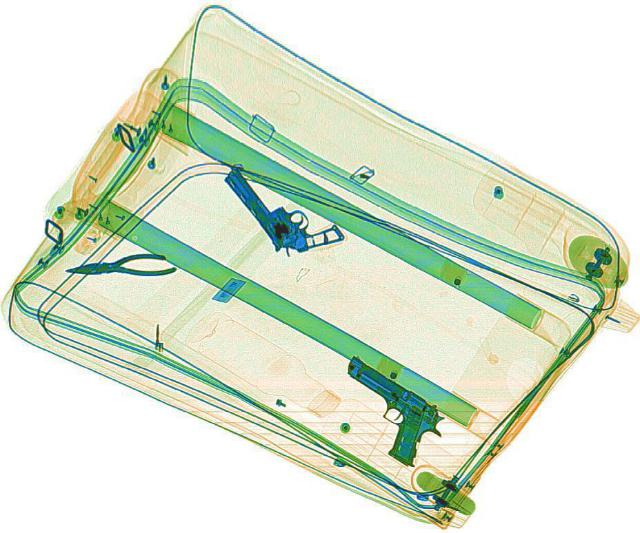Gun: (301, 351, 461, 467), (216, 148, 348, 265)
Pliers: (62, 251, 178, 278)
